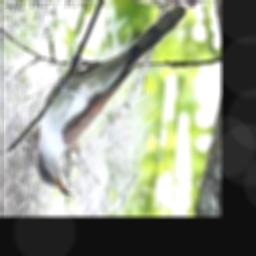Cuckoo: (37, 5, 186, 196)
